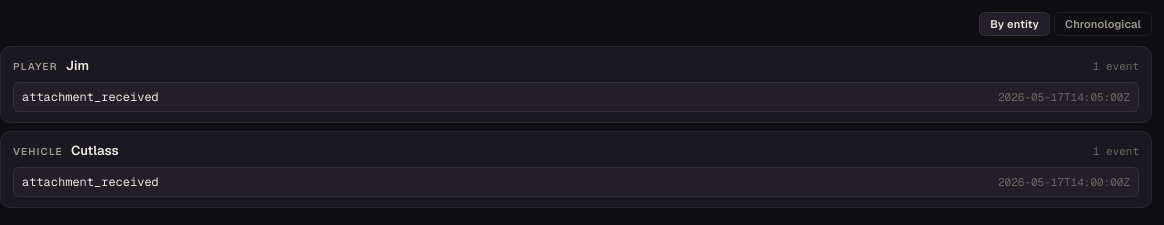
Scenario: Timeline › switches to chronological view when the toggle is clicked
Click the button "Chronological" at (1103, 24), box [1054, 12, 1152, 36]
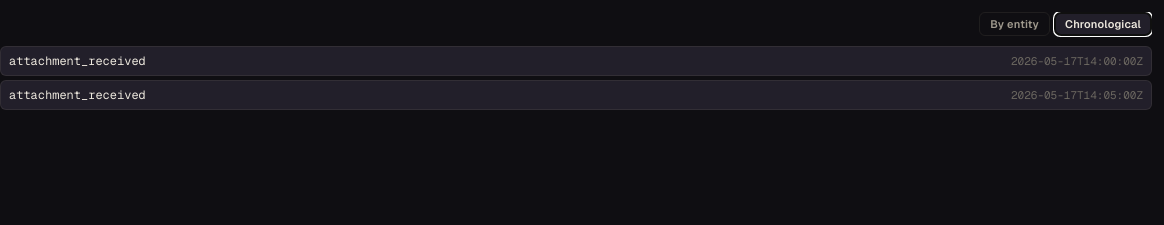
Result: the button "Cutlass" is gone
Result: the button "Jim" is gone
Result: the text "attachment_received" is shown 2 times at [9, 53, 146, 69]; [9, 87, 146, 103]
